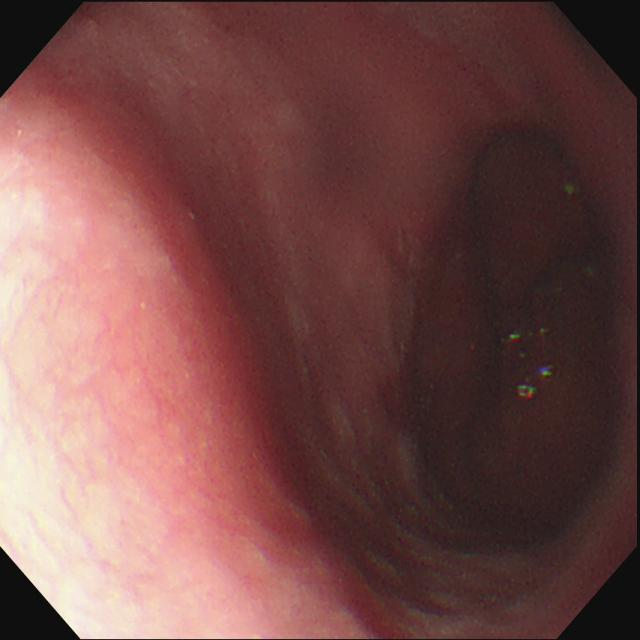U: (516, 381, 537, 403), (542, 365, 557, 379), (509, 334, 523, 346)
